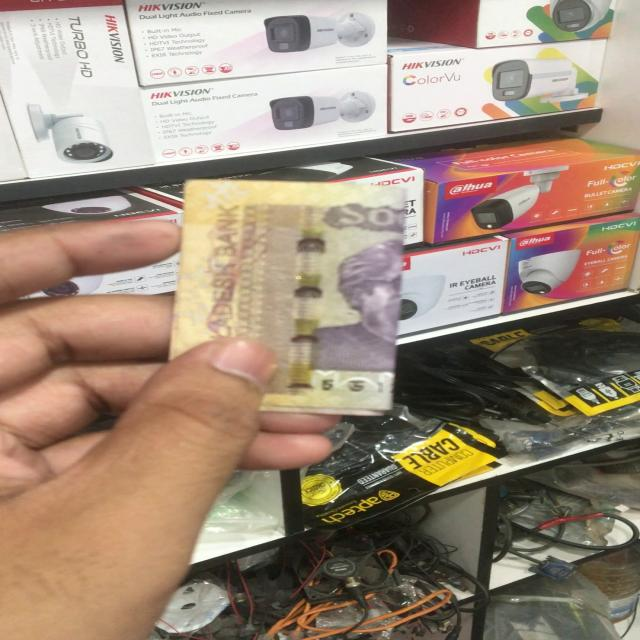Taka: (175, 180, 412, 423)
